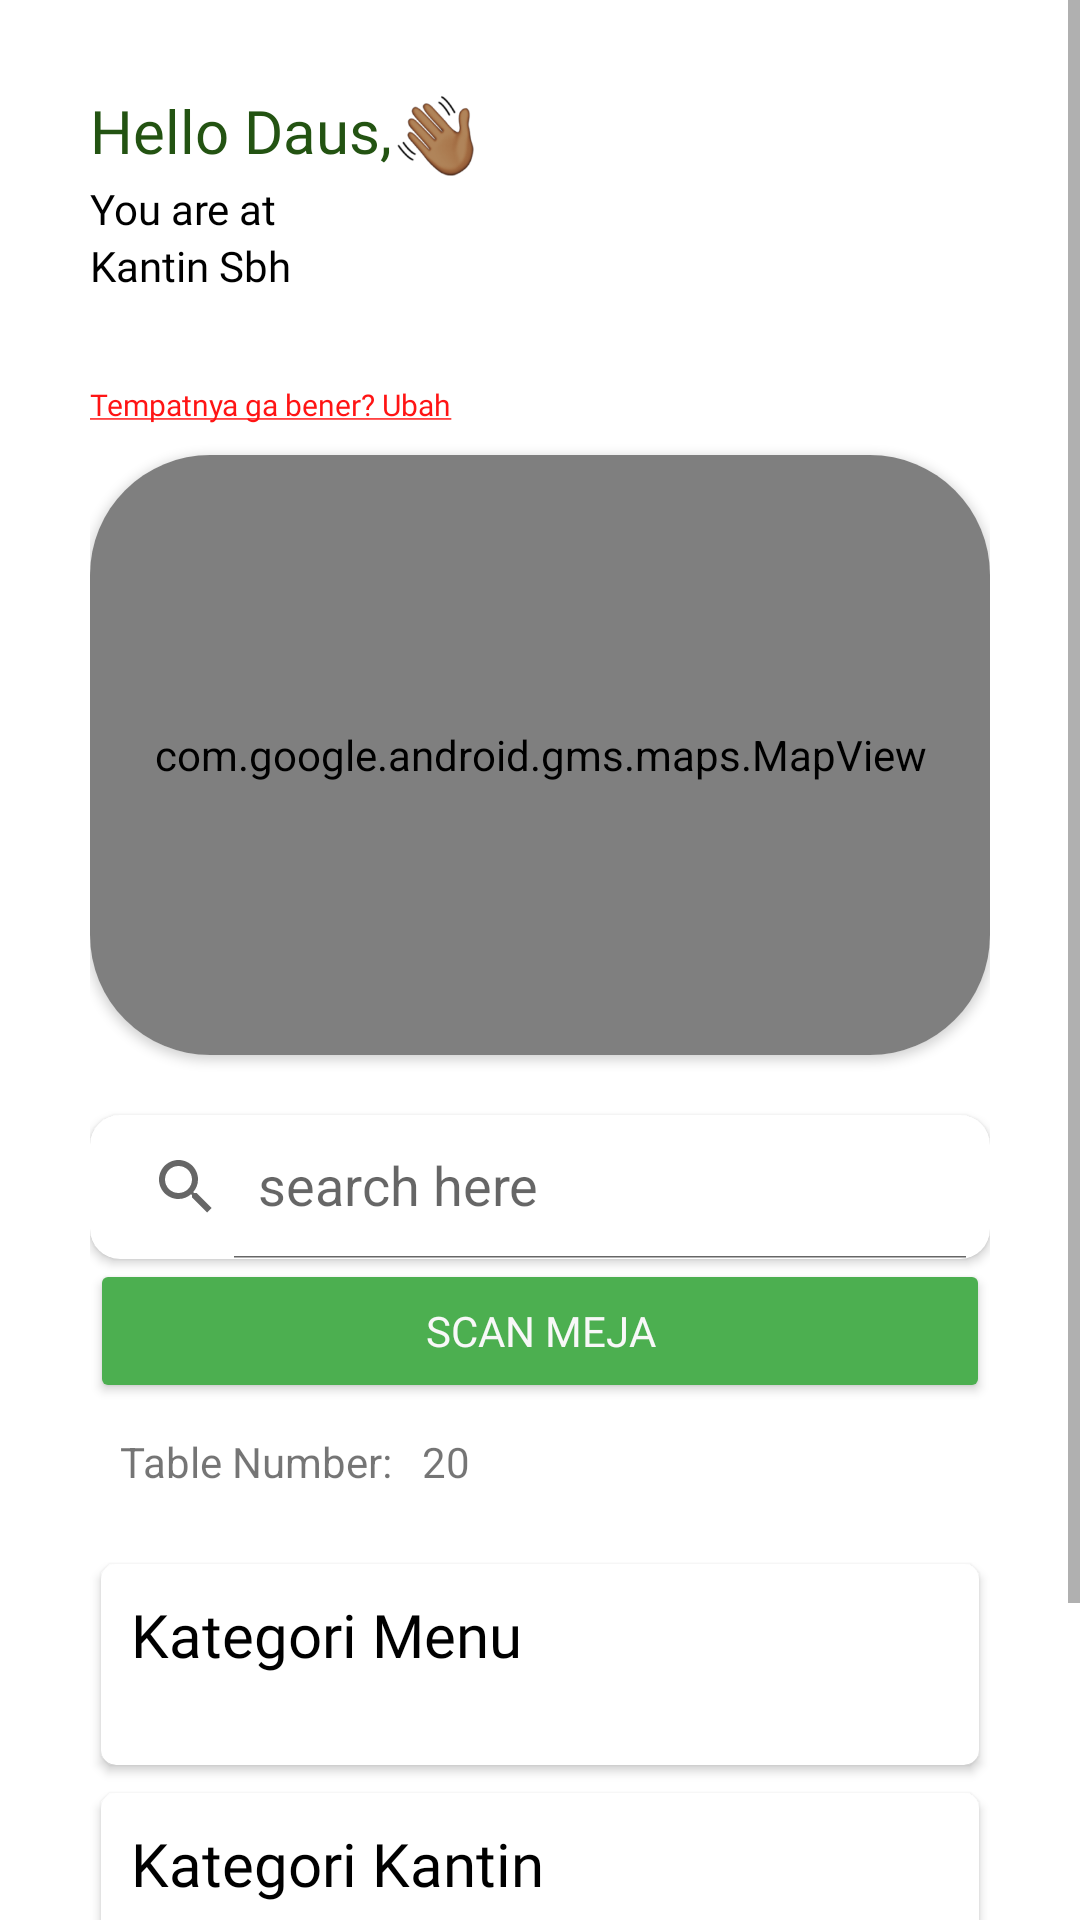

Named icons in this screenshot (1080x1920) and their centers, (x=x, y=y):
wavinghand: (x=435, y=136)
